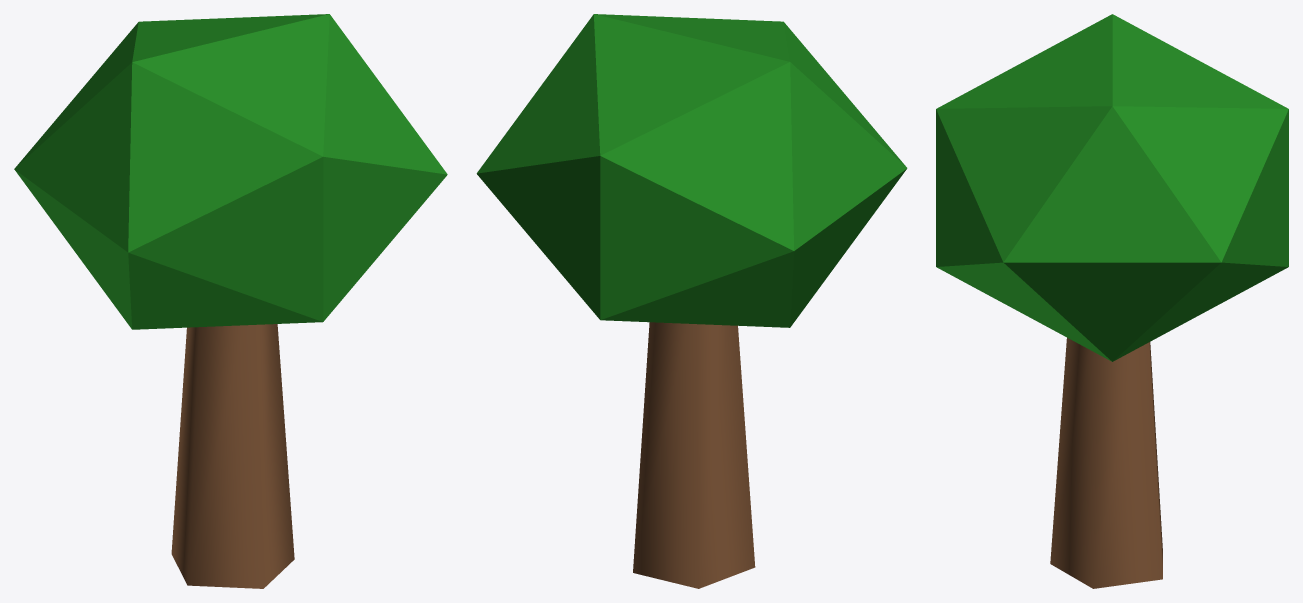
The model's file is tree_oak.glb.
3 renders of one model, left to right at view 1: azimuth 30°, elevation 25°; view 2: azimuth 150°, elevation 25°; view 3: azimuth 270°, elevation 25°, orthographic. The views are drawn at different scales.
Visible parts, largest first — view 1: node_1, node_0; view 2: node_1, node_0; view 3: node_1, node_0.
Boxes of the visible parts, x1,y1,x2,y2 form: node_1: (14, 14, 447, 329); node_0: (171, 324, 294, 588); node_1: (476, 14, 907, 327); node_0: (633, 322, 755, 588); node_1: (936, 14, 1288, 361); node_0: (1050, 337, 1162, 588).
Size of the model in its own units: 0.3403 by 0.5361 by 0.3403.
